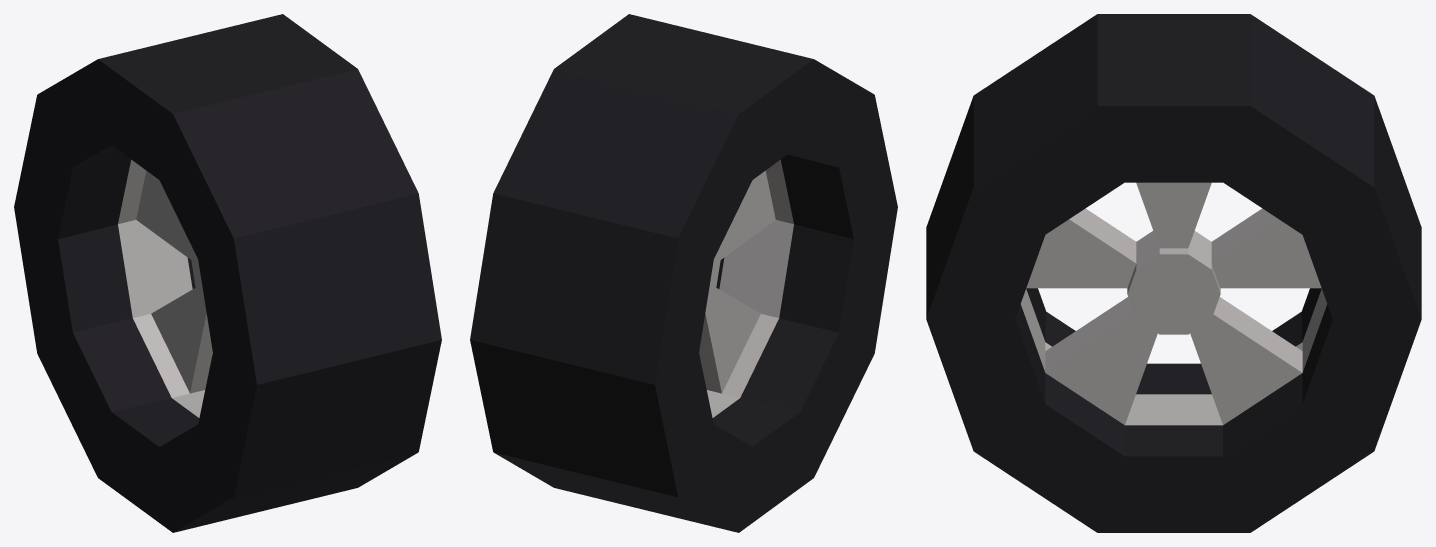
The model's file is kolo.fbx.
3 views of the same model, side by side, from view 1: azimuth 30°, elevation 25°; view 2: azimuth 150°, elevation 25°; view 3: azimuth 270°, elevation 25° (orthographic).
Visible parts, largest first — view 1: Kolo; view 2: Kolo; view 3: Kolo.
Part boxes in pixels (box(x1,y1,x2,y2)): Kolo: box(14, 14, 441, 532); Kolo: box(470, 14, 897, 532); Kolo: box(926, 14, 1421, 532).
Size of the model in its own units: 36.28 by 78.5 by 82.54.
